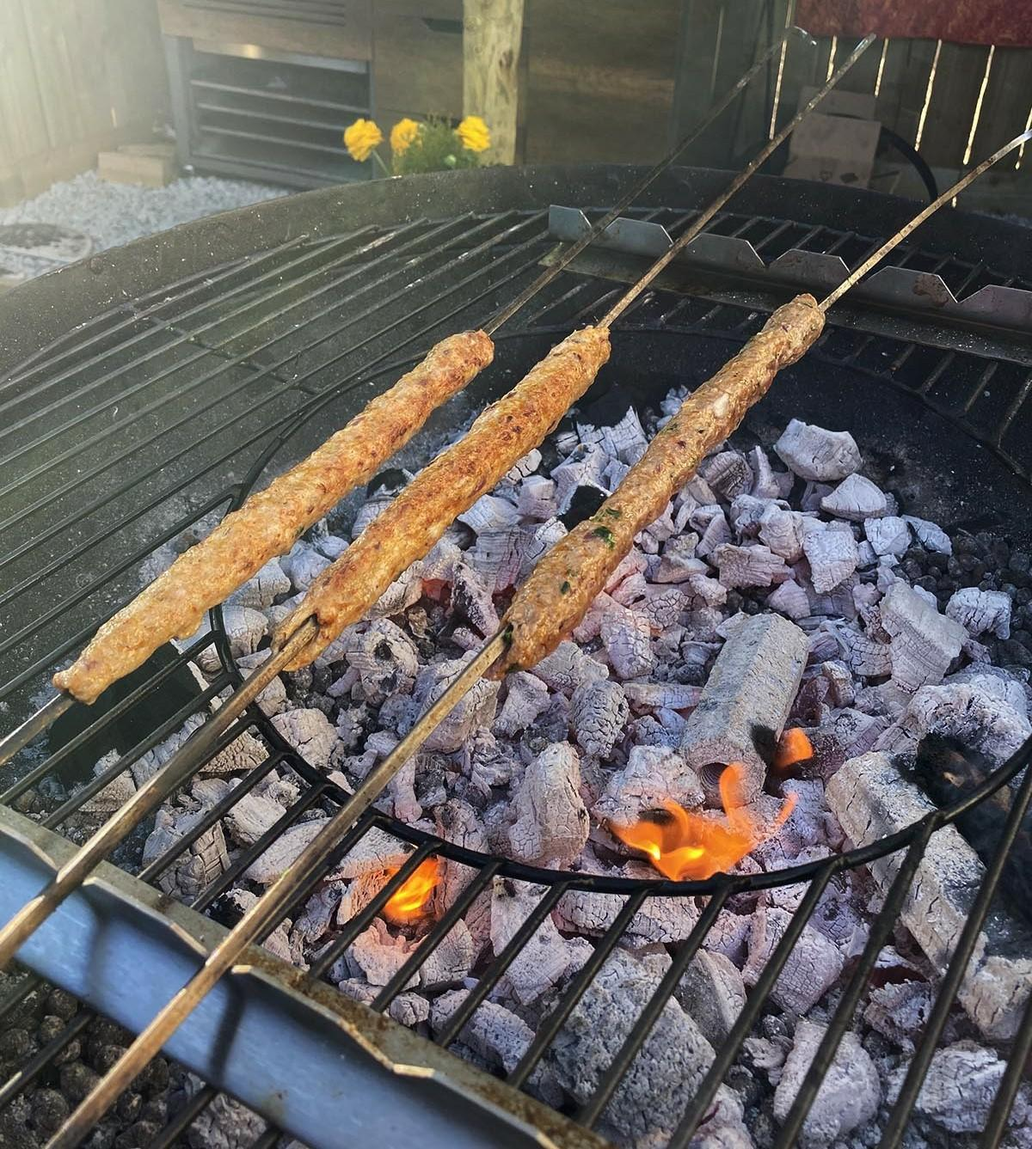Kebab: (50, 330, 492, 705), (504, 293, 823, 670), (274, 319, 609, 670)
